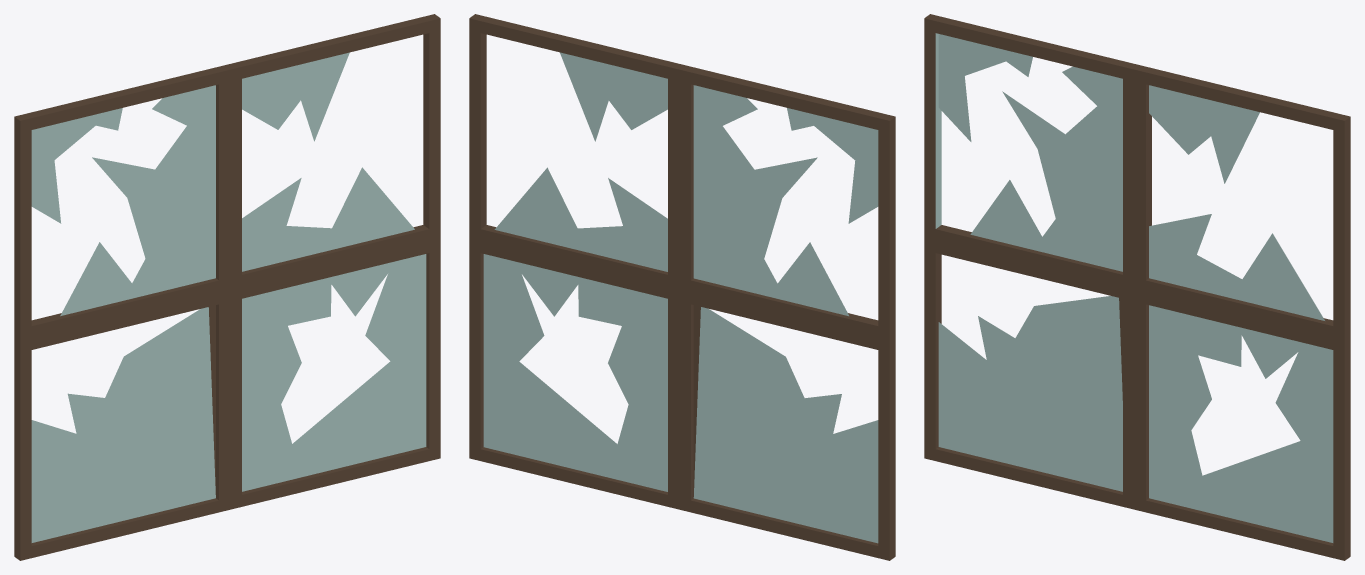
The model's file is Windows.glb.
The picture shows the model from 3 angles, left to right: view 1: azimuth 30°, elevation 25°; view 2: azimuth 150°, elevation 25°; view 3: azimuth 330°, elevation 25°; orthographic projection.
Visible parts, largest first — view 1: WINDOWS; view 2: WINDOWS; view 3: WINDOWS.
Boxes of the visible parts, x1,y1,x2,y2 form: WINDOWS: [14, 14, 440, 560]; WINDOWS: [469, 14, 895, 560]; WINDOWS: [924, 14, 1350, 560].
Size of the model in its own units: 1.14 by 1.14 by 0.028.
